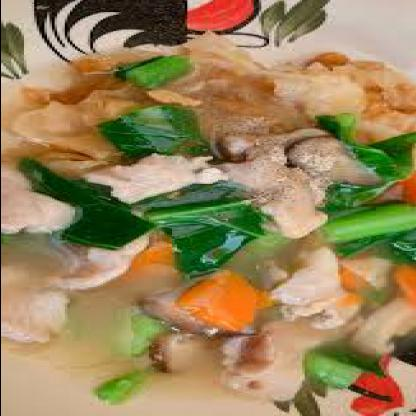Laadna: (3, 25, 393, 416)
